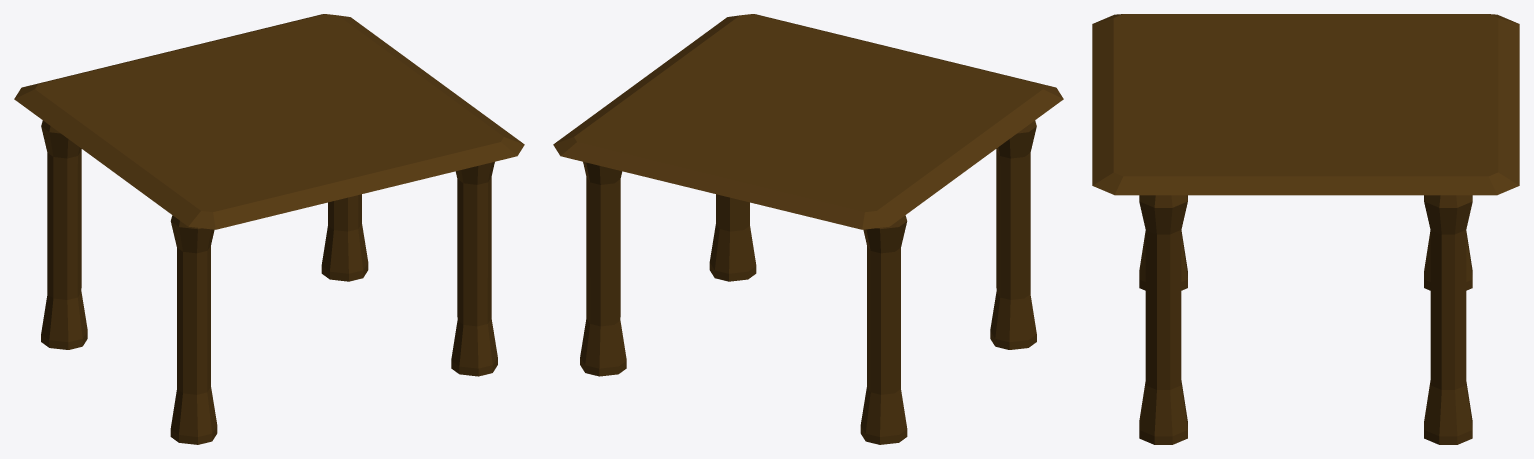
File: table.fbx
3 views of the same model, side by side, from view 1: azimuth 30°, elevation 25°; view 2: azimuth 150°, elevation 25°; view 3: azimuth 270°, elevation 25° (orthographic). The views are drawn at different scales.
Parts seen in each view (by area): view 1: Table; view 2: Table; view 3: Table.
Part boxes in pixels (left/top/right/bottom): Table: left=14, top=14, right=524, bottom=444; Table: left=553, top=14, right=1063, bottom=444; Table: left=1092, top=14, right=1519, bottom=444.
Size of what is drawn, in the model's own units: 1.2 by 0.8189 by 1.2.
